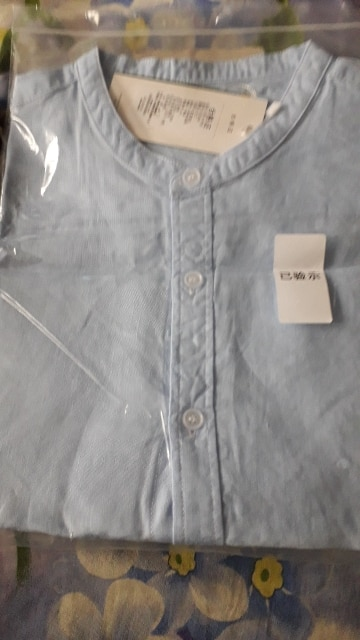shirts: (22, 60, 360, 512)
